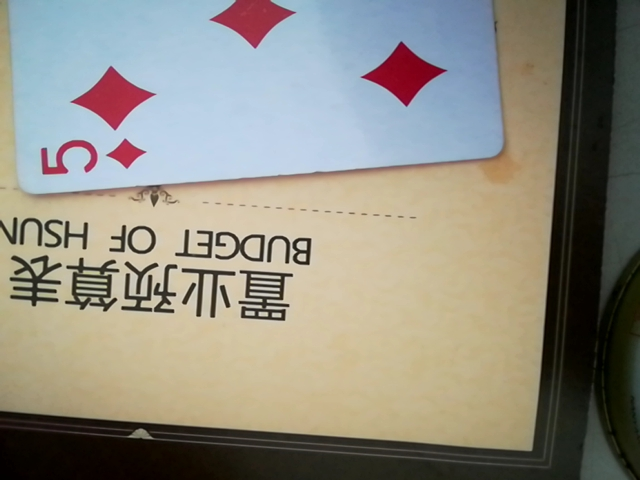fk 5: (3, 0, 507, 198)
